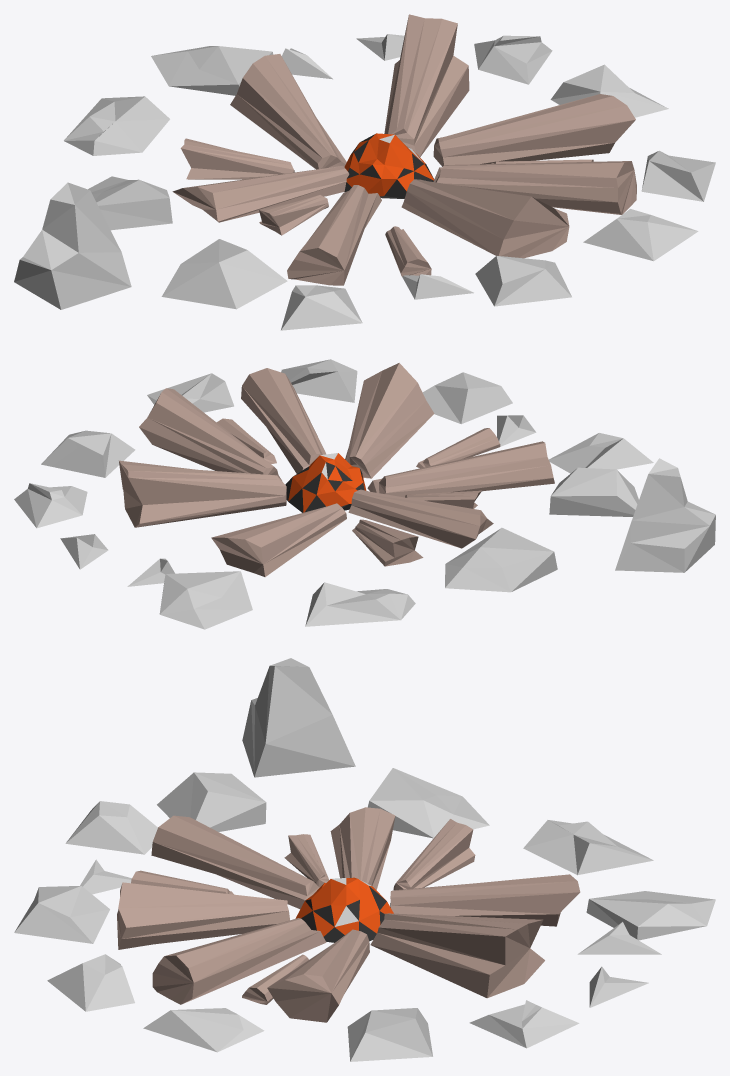
Rendered from fireplace.glb.
The picture shows the model from 3 angles, top to bottom: view 1: azimuth 30°, elevation 25°; view 2: azimuth 150°, elevation 25°; view 3: azimuth 270°, elevation 25°; orthographic projection. The views are drawn at different scales.
Parts seen in each view (by area): view 1: mesh426686337, mesh1092029743, mesh1003889422, mesh1160812418, mesh1959393478, mesh66477150, mesh1646851771, mesh1763538459, mesh1086865960, mesh828617495, Icosphere, mesh1845842313 (+13 smaller); view 2: mesh1160812418, mesh426686337, mesh1003889422, mesh1086865960, mesh1092029743, mesh1980005773, mesh66477150, mesh1763538459, mesh1959393478, mesh1845842313, mesh1646851771, mesh828617495 (+14 smaller); view 3: mesh1160812418, mesh426686337, mesh1003889422, mesh1959393478, mesh66477150, mesh1086865960, mesh1092029743, mesh1980005773, mesh1646851771, mesh1845842313, Icosphere, mesh828617495 (+14 smaller).
Boxes of the visible parts, x1=… form: mesh426686337: x1=14, y1=182, x2=131, y2=309; mesh1092029743: x1=433, y1=94, x2=635, y2=166; mesh1003889422: x1=401, y1=179, x2=569, y2=258; mesh1160812418: x1=384, y1=14, x2=469, y2=157; mesh1959393478: x1=433, y1=161, x2=636, y2=214; mesh66477150: x1=230, y1=54, x2=346, y2=169; mesh1646851771: x1=161, y1=239, x2=287, y2=309; mesh1763538459: x1=172, y1=166, x2=349, y2=222; mesh1086865960: x1=287, y1=185, x2=381, y2=285; mesh828617495: x1=64, y1=96, x2=169, y2=155; Icosphere: x1=344, y1=133, x2=434, y2=198; mesh1845842313: x1=151, y1=46, x2=273, y2=95; mesh1160812418: x1=119, y1=460, x2=286, y2=527; mesh426686337: x1=615, y1=458, x2=715, y2=572; mesh1003889422: x1=345, y1=363, x2=434, y2=478; mesh1086865960: x1=367, y1=441, x2=554, y2=497; mesh1092029743: x1=139, y1=388, x2=281, y2=480; mesh1980005773: x1=445, y1=528, x2=557, y2=592; mesh66477150: x1=211, y1=503, x2=346, y2=576; mesh1763538459: x1=348, y1=489, x2=493, y2=548; mesh1959393478: x1=241, y1=368, x2=325, y2=473; mesh1845842313: x1=159, y1=571, x2=252, y2=629; mesh1646851771: x1=549, y1=467, x2=638, y2=516; mesh828617495: x1=305, y1=582, x2=415, y2=626; mesh1160812418: x1=370, y1=913, x2=544, y2=998; mesh426686337: x1=242, y1=658, x2=355, y2=777; mesh1003889422: x1=117, y1=882, x2=289, y2=949; mesh1959393478: x1=152, y1=918, x2=326, y2=1004; mesh66477150: x1=390, y1=874, x2=580, y2=926; mesh1086865960: x1=151, y1=815, x2=319, y2=908; mesh1092029743: x1=267, y1=929, x2=369, y2=1022; mesh1980005773: x1=367, y1=768, x2=489, y2=838; mesh1646851771: x1=157, y1=772, x2=266, y2=831; mesh1845842313: x1=586, y1=891, x2=715, y2=940; Icosphere: x1=295, y1=877, x2=393, y2=942; mesh828617495: x1=523, y1=820, x2=653, y2=875.
Size of the model in its own units: 1.31 by 0.1807 by 1.18.
